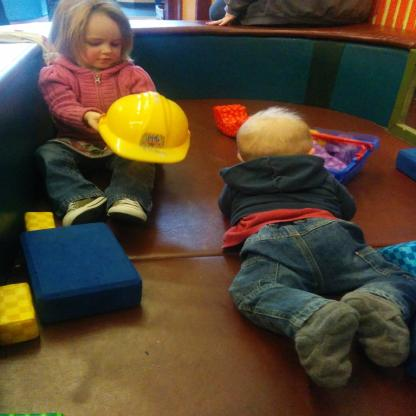Helmet: (90, 78, 182, 158)
